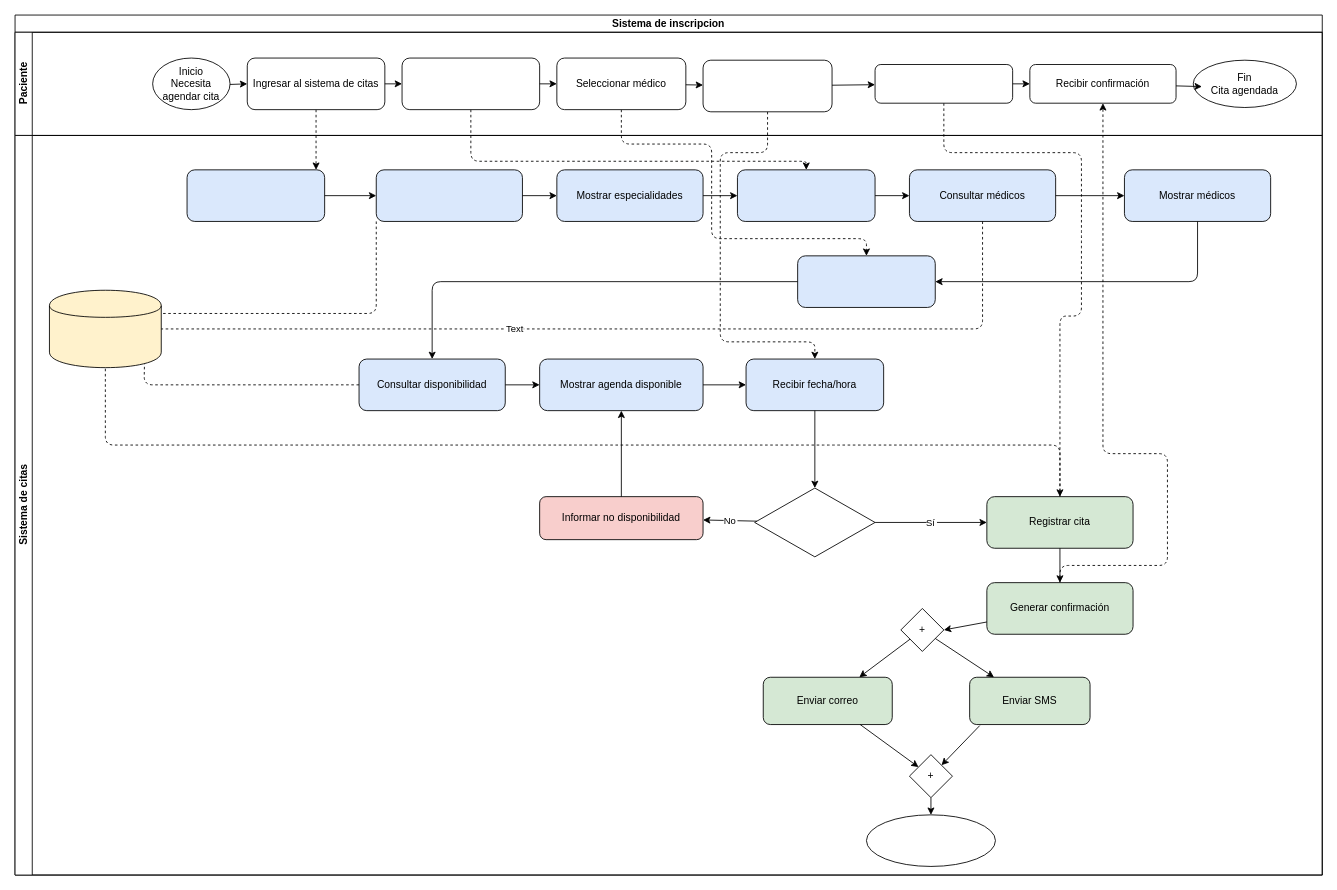
Image size: 1337x890. Some labels were removed from this diagram. The centre of each missing label's shape, as x and y in pixels:
"Base de datos (citas/agenda)" belongs at [105,328].
"Confirmar cita" belongs at [943,83].
"Consultar especialidades" belongs at [448,195].
"Fin Cita confirmada" belongs at [930,840].
"Recibir especialidad" belongs at [806,195].
"Recibir médico" belongs at [866,281].
"Recibir solicitud" belongs at [255,195].
"Seleccionar especialidad" belongs at [470,83].
"Seleccionar fecha y hora" belongs at [767,85].
"¿Horario disponible?" belongs at [814,522].
